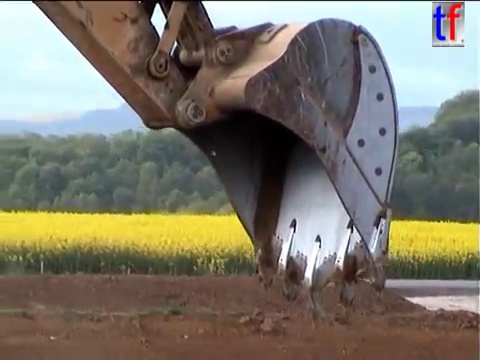excavator: (26, 1, 403, 330)
